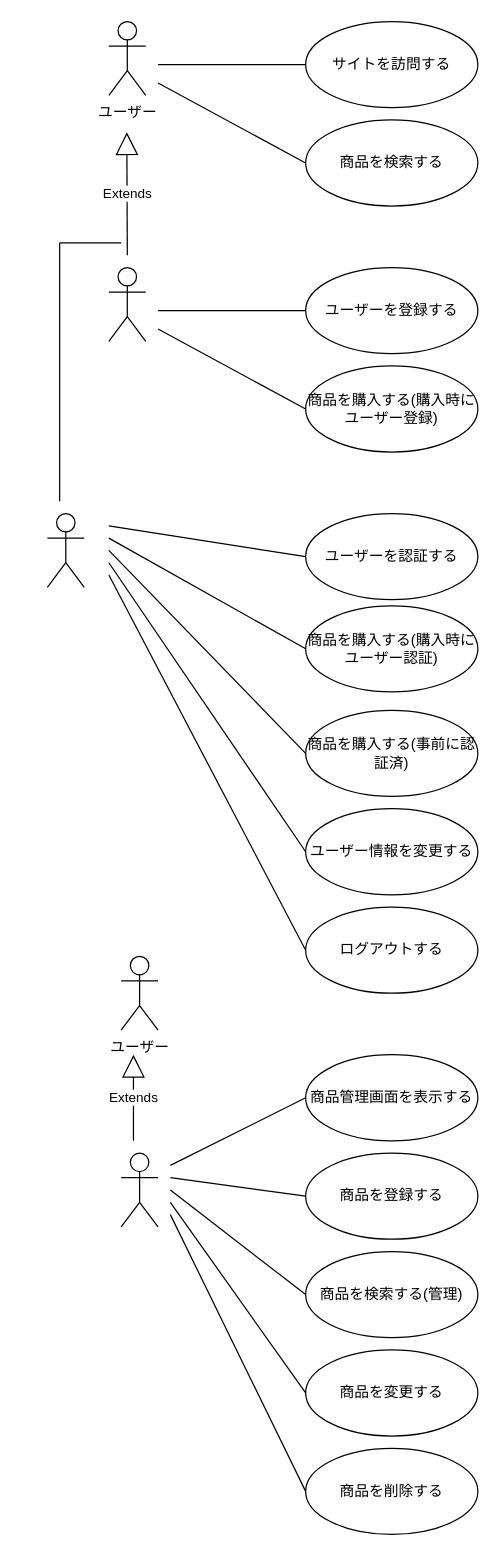
This 499x1556 diagram has some shape labels left out. The centre of each missing label's shape, as x and y in pixels:
"新規ユーザー" goes at point (127, 303).
"登録ユーザー" goes at point (65, 549).
"管理者" goes at point (139, 1189).
